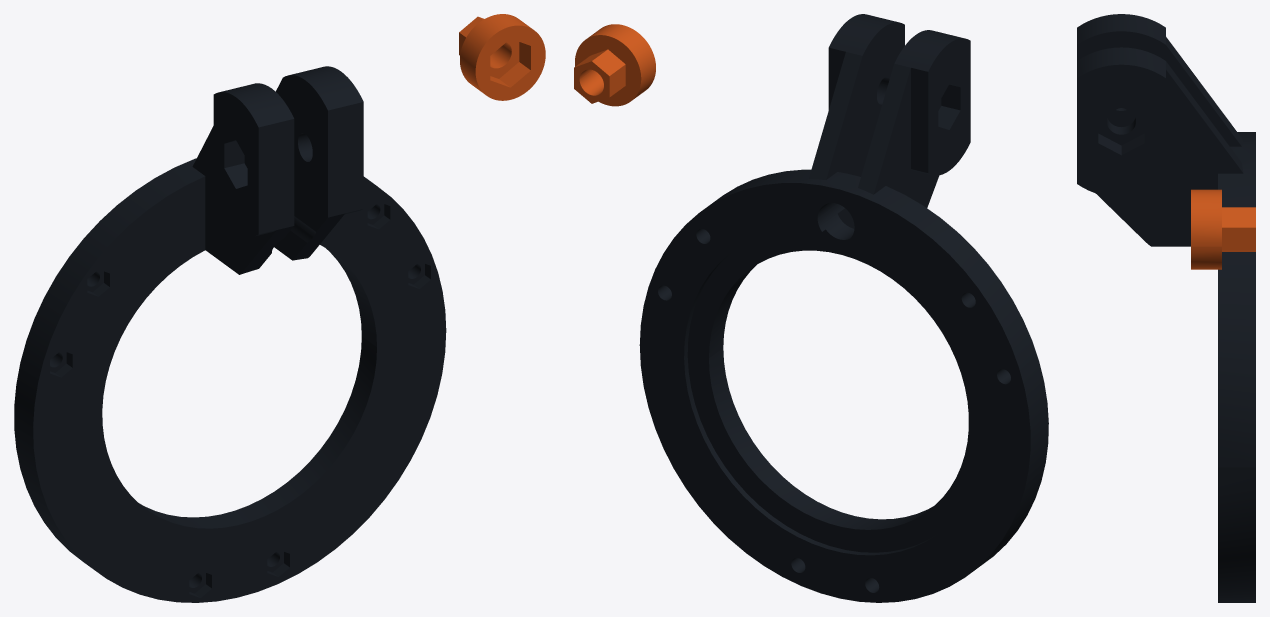
File: .moza_crp_dayton_tt25_print_set.step.glb
3 views of the same model, side by side, from view 1: azimuth 30°, elevation 25°; view 2: azimuth 150°, elevation 25°; view 3: azimuth 270°, elevation 25° (orthographic). The views are drawn at different scales.
Parts seen in each view (by area): view 1: o1.1, o1.2; view 2: o1.1, o1.2; view 3: o1.1, o1.2.
Boxes of the visible parts, x1=… form: o1.1: x1=14, y1=66, x2=446, y2=602; o1.2: x1=459, y1=14, x2=545, y2=100; o1.1: x1=639, y1=14, x2=1048, y2=602; o1.2: x1=574, y1=24, x2=655, y2=106; o1.1: x1=1077, y1=14, x2=1255, y2=602; o1.2: x1=1191, y1=189, x2=1255, y2=269.
Size of the model in its own units: 0.128 by 0.1345 by 0.0402.
